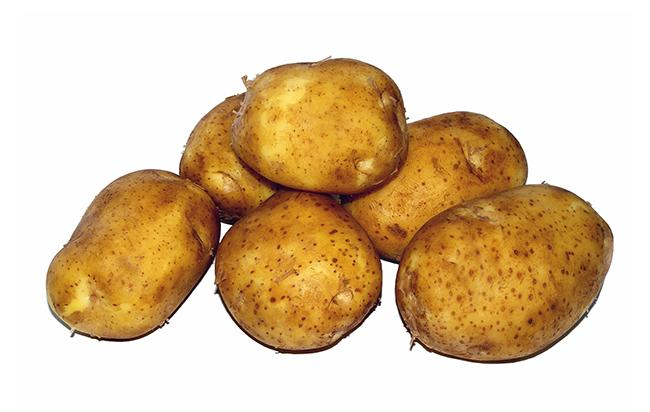potato: (411, 120, 623, 230), (42, 107, 221, 215), (218, 126, 393, 227), (247, 39, 415, 120)
